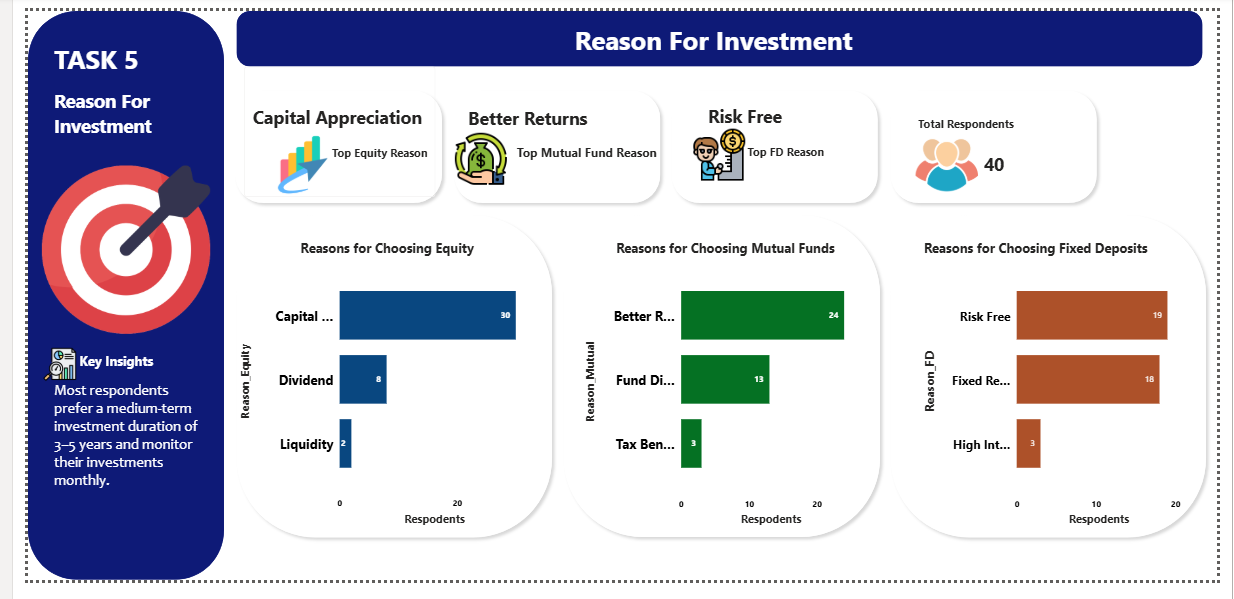

Layout of this report page (visuals, bound fields, positions):
{"tool":"powerbi","page":{"name":"Task 5","canvas":[1714,820],"ordinal":4},"visuals":[{"type":"shape","box":[0,0,282.5,820],"z":0},{"type":"shape","box":[300,0,1392.5,80],"z":1000},{"type":"shape","box":[290,106,316,180],"z":2000},{"type":"shape","box":[605,105,315,180],"z":3000},{"type":"shape","box":[920,105,315,180],"z":4000},{"type":"shape","box":[1235,105,315,180],"z":5000},{"type":"shape","box":[764,286,474,482],"z":6000},{"type":"shape","box":[292.5,285,472.5,482.5],"z":7000},{"type":"shape","box":[1235,285,472.5,482.5],"z":8000},{"type":"textbox","box":[32.5,40,220,97.5],"z":9000},{"type":"textbox","box":[322.5,10,1332.5,70],"z":10000},{"type":"textbox","box":[32.5,105,220,180],"z":11000},{"type":"image","box":[0,222.5,282.5,242.5],"z":12000},{"type":"cardVisual","fields":{"Data":["Data_set 2.Top Equity Reason"]},"box":[295,62.5,310,222.5],"z":13000},{"type":"image","box":[322.5,172.5,147.5,97.5],"z":14000},{"type":"cardVisual","fields":{"Data":["Data_set 2.Top Mutual Fund Reason"]},"box":[605,92.5,330,165],"z":15000},{"type":"image","box":[605,172.5,95,80],"z":16000},{"type":"cardVisual","fields":{"Data":["Data_set 2.Top FD Reason"]},"box":[952.5,85,282.5,177.5],"z":17000},{"type":"image","box":[957.5,155,77.5,102.5],"z":18000},{"type":"cardVisual","fields":{"Data":["Data_set 2.Total Respondents"]},"box":[1255,105,277.5,177.5],"z":19000},{"type":"image","box":[1255,177.5,140,90],"z":20000},{"type":"clusteredBarChart","title":"Reasons for Choosing Equity","fields":{"Category":["Data_set 2.Reason_Equity"],"Y":["CountNonNull(Data_set 2.Reason_Equity)"]},"box":[299.5,329,434.5,417.6],"z":21000},{"type":"clusteredBarChart","title":"Reasons for Choosing Mutual Funds","fields":{"Category":["Data_set 2.Reason_Mutual"],"Y":["CountNonNull(Data_set 2.Reason_Mutual)"]},"box":[797.3,328.2,414.9,417.7],"z":22000},{"type":"clusteredBarChart","title":"Reasons for Choosing Fixed Deposits","fields":{"Category":["Data_set 2.Reason_FD"],"Y":["CountNonNull(Data_set 2.Reason_FD)"]},"box":[1285.5,328.2,387.8,417.7],"z":23000},{"type":"textbox","box":[69,486.6,151.8,50],"z":24000},{"type":"image","box":[21.1,464,48.5,88.6],"z":25000},{"type":"textbox","box":[31.6,527.3,219.3,242.6],"z":26000}]}

Visuals, with their boxes in screenshot pixels (x1, y1, x2, y2), scaled from the page's 1714x820 canvas onto the 1234x599 screenshot:
shape: x1=0 y1=0 x2=203 y2=598
shape: x1=216 y1=0 x2=1219 y2=58
shape: x1=209 y1=77 x2=436 y2=209
shape: x1=436 y1=77 x2=662 y2=208
shape: x1=662 y1=77 x2=889 y2=208
shape: x1=889 y1=77 x2=1116 y2=208
shape: x1=550 y1=209 x2=891 y2=561
shape: x1=211 y1=208 x2=551 y2=561
shape: x1=889 y1=208 x2=1229 y2=561
textbox: x1=23 y1=29 x2=182 y2=100
textbox: x1=232 y1=7 x2=1192 y2=58
textbox: x1=23 y1=77 x2=182 y2=208
image: x1=0 y1=163 x2=203 y2=340
cardVisual - Data_set 2.Top Equity Reason: x1=212 y1=46 x2=436 y2=208
image: x1=232 y1=126 x2=338 y2=197
cardVisual - Data_set 2.Top Mutual Fund Reason: x1=436 y1=68 x2=673 y2=188
image: x1=436 y1=126 x2=504 y2=184
cardVisual - Data_set 2.Top FD Reason: x1=686 y1=62 x2=889 y2=192
image: x1=689 y1=113 x2=745 y2=188
cardVisual - Data_set 2.Total Respondents: x1=904 y1=77 x2=1103 y2=206
image: x1=904 y1=130 x2=1004 y2=195
"Reasons for Choosing Equity" clusteredBarChart: x1=216 y1=240 x2=528 y2=545
"Reasons for Choosing Mutual Funds" clusteredBarChart: x1=574 y1=240 x2=873 y2=545
"Reasons for Choosing Fixed Deposits" clusteredBarChart: x1=926 y1=240 x2=1205 y2=545
textbox: x1=50 y1=355 x2=159 y2=392
image: x1=15 y1=339 x2=50 y2=404
textbox: x1=23 y1=385 x2=181 y2=562
